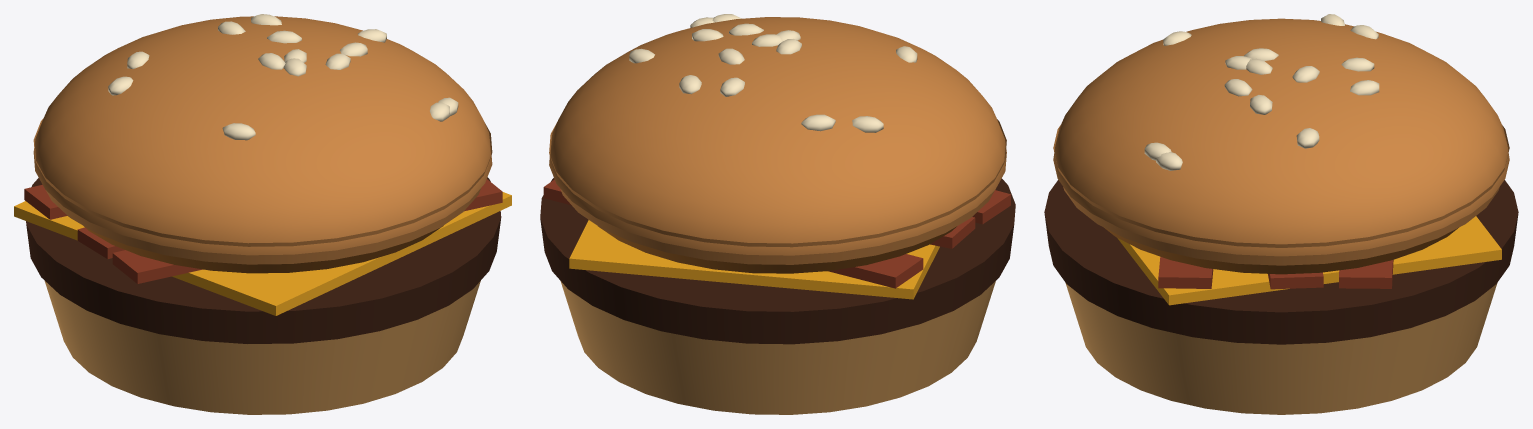
The model's file is burger-smash-dulce.glb.
The picture shows the model from 3 angles, left to right: view 1: azimuth 30°, elevation 25°; view 2: azimuth 150°, elevation 25°; view 3: azimuth 270°, elevation 25°; orthographic projection.
Bounding box in the file's own units: 0.1594 × 0.104 × 0.1594.
